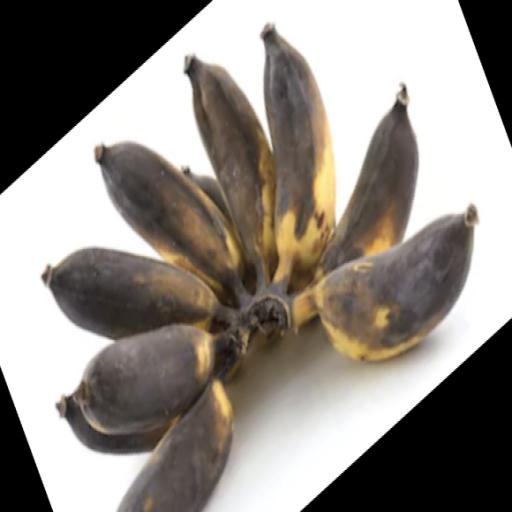banana-overripe: (11, 2, 448, 496)
